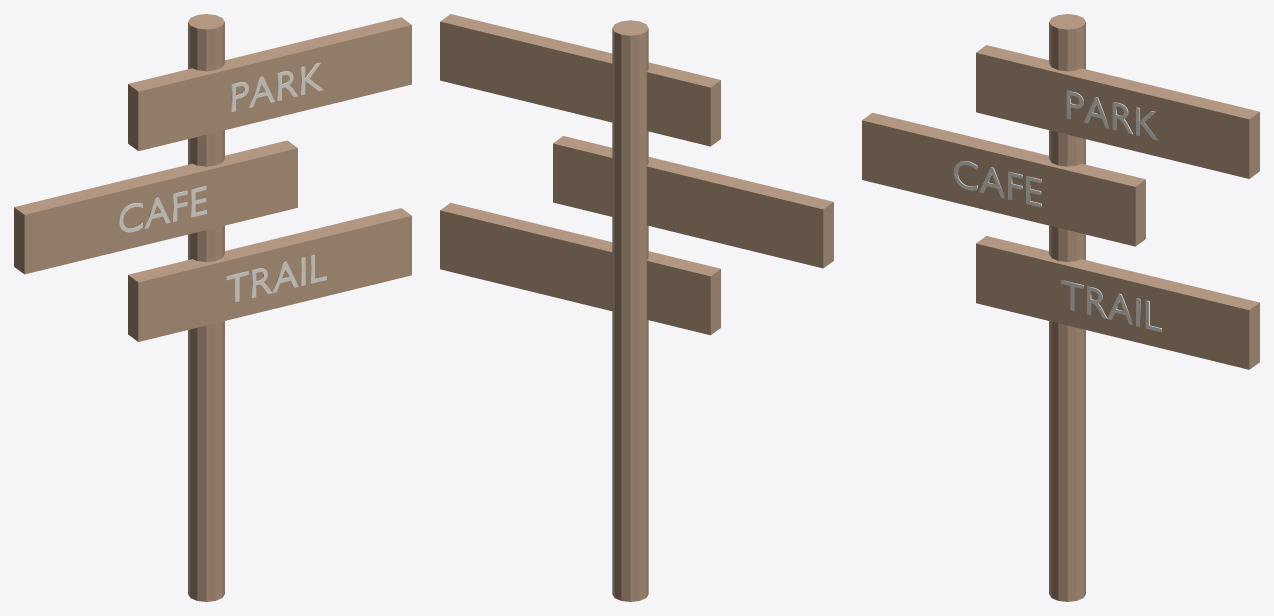
Rendered from direction_post.glb.
3 views of the same model, side by side, from view 1: azimuth 30°, elevation 25°; view 2: azimuth 150°, elevation 25°; view 3: azimuth 330°, elevation 25° (orthographic).
Parts seen in each view (by area): view 1: direction_post_003, direction_post_005, direction_post_001, direction_post_000, direction_post_002, direction_post_006, direction_post_004; view 2: direction_post_000, direction_post_001, direction_post_005, direction_post_003; view 3: direction_post_003, direction_post_005, direction_post_001, direction_post_000, direction_post_002, direction_post_006, direction_post_004.
Boxes of the visible parts, x1=… form: direction_post_003: x1=14, y1=140, x2=297, y2=274; direction_post_005: x1=128, y1=208, x2=411, y2=341; direction_post_001: x1=128, y1=17, x2=411, y2=151; direction_post_000: x1=188, y1=14, x2=224, y2=601; direction_post_002: x1=231, y1=62, x2=323, y2=112; direction_post_006: x1=226, y1=255, x2=326, y2=301; direction_post_004: x1=118, y1=186, x2=206, y2=232; direction_post_000: x1=612, y1=20, x2=648, y2=601; direction_post_001: x1=440, y1=14, x2=720, y2=146; direction_post_005: x1=440, y1=202, x2=720, y2=335; direction_post_003: x1=553, y1=136, x2=833, y2=268; direction_post_003: x1=862, y1=112, x2=1145, y2=246; direction_post_005: x1=976, y1=236, x2=1259, y2=369; direction_post_001: x1=976, y1=45, x2=1259, y2=178; direction_post_000: x1=1049, y1=14, x2=1085, y2=601; direction_post_002: x1=1066, y1=90, x2=1158, y2=140; direction_post_006: x1=1061, y1=280, x2=1161, y2=332; direction_post_004: x1=953, y1=161, x2=1041, y2=207.
Bounding box in the file's own units: 1.7 × 2.4 × 0.172.
